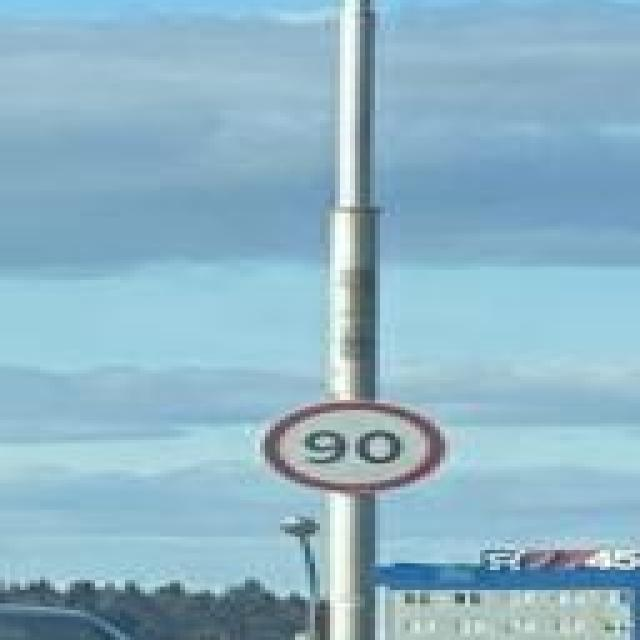Speed Limit -90-: (263, 400, 447, 492)
